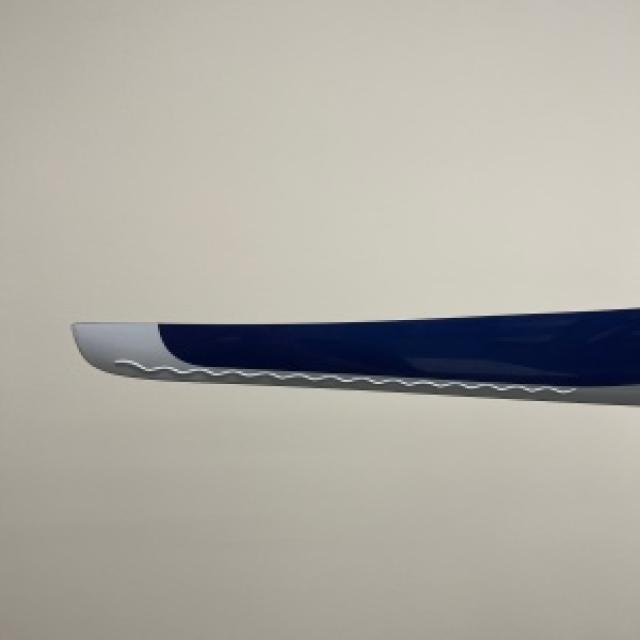healthy: (70, 305, 638, 401)
